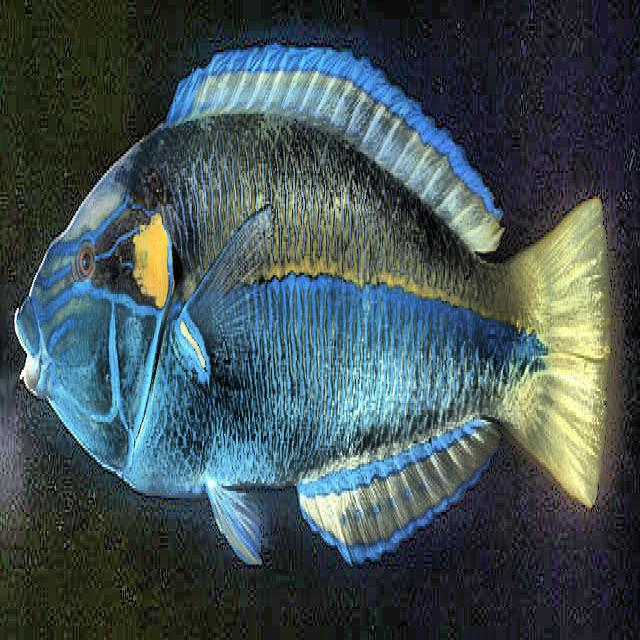fish: (12, 40, 612, 581)
